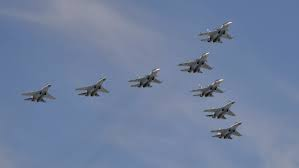fighter: (196, 18, 239, 45), (177, 49, 221, 75), (19, 80, 60, 105), (72, 75, 116, 98), (189, 75, 230, 98), (200, 96, 241, 119), (125, 66, 166, 88), (208, 118, 245, 140)
